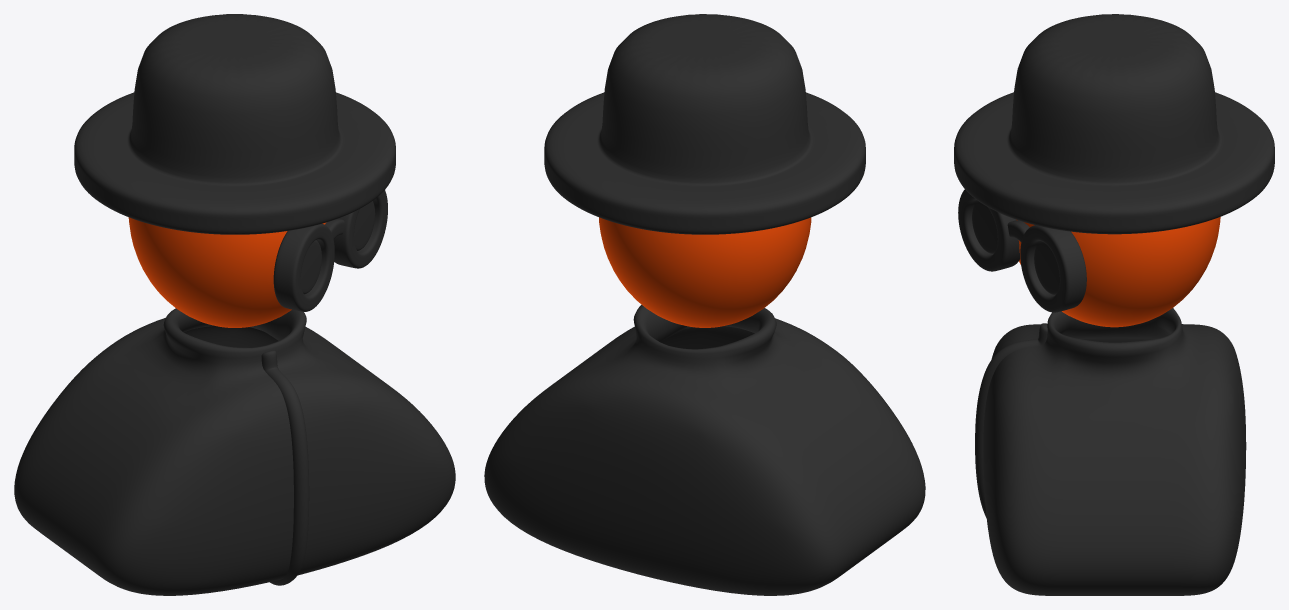
The model's file is incognito-user-animated-3d-icon-1521659104566.glb.
3 renders of one model, left to right at view 1: azimuth 30°, elevation 25°; view 2: azimuth 150°, elevation 25°; view 3: azimuth 270°, elevation 25°, orthographic.
Parts seen in each view (by area): view 1: Cloth, Hat, Head, Frame, Glass.001; view 2: Cloth, Hat, Head; view 3: Cloth, Hat, Head, Frame, Glass.001.
Boxes of the visible parts, x1,y1,x2,y2 form: Cloth: [14, 308, 455, 595]; Hat: [74, 14, 395, 234]; Head: [128, 217, 326, 327]; Frame: [273, 190, 387, 311]; Glass.001: [300, 201, 375, 294]; Cloth: [484, 304, 925, 595]; Hat: [544, 14, 865, 234]; Head: [599, 217, 811, 327]; Cloth: [975, 308, 1246, 595]; Hat: [954, 14, 1274, 234]; Head: [1016, 217, 1220, 327]; Frame: [958, 189, 1086, 312]; Glass.001: [972, 201, 1059, 295].
Size of the model in its own units: 1.98 by 2.73 by 1.56.
